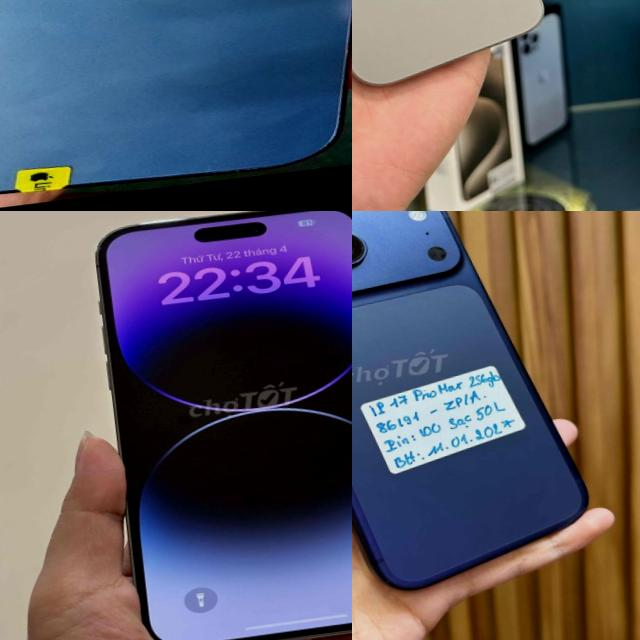gen_12_13: (0, 0, 352, 211)
gen_14: (75, 211, 352, 640)
gen_15: (352, 0, 566, 100)
gen_17: (352, 211, 606, 612)
